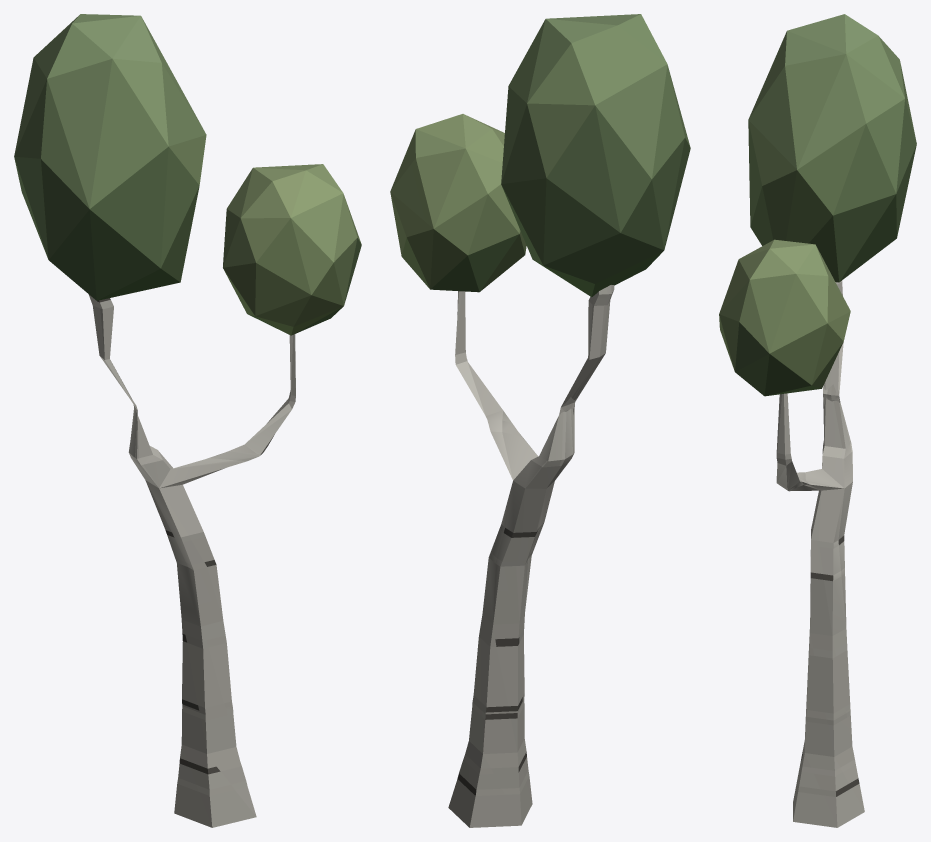
File: Birch_Tree_m_02.glb
The picture shows the model from 3 angles, left to right: view 1: azimuth 30°, elevation 25°; view 2: azimuth 150°, elevation 25°; view 3: azimuth 270°, elevation 25°; orthographic projection. The views are drawn at different scales.
Parts seen in each view (by area): view 1: Birch_Tree_m_02; view 2: Birch_Tree_m_02; view 3: Birch_Tree_m_02.
Boxes of the visible parts, x1,y1,x2,y2 form: Birch_Tree_m_02: [14, 14, 361, 827]; Birch_Tree_m_02: [390, 14, 690, 827]; Birch_Tree_m_02: [719, 14, 916, 827].
Size of the model in its own units: 3.72 by 9.7 by 2.36.
